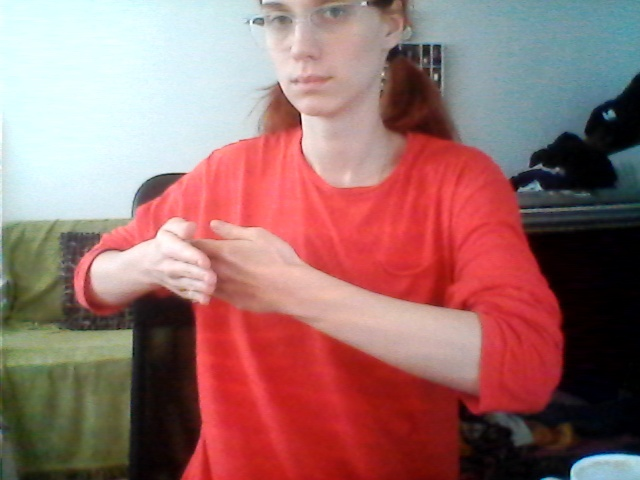dvere: (144, 212, 305, 324)
